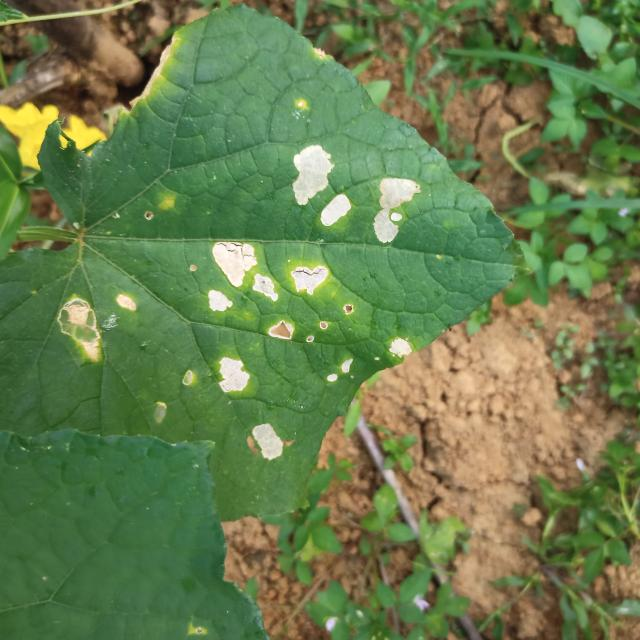disease_cucumber: (207, 239, 331, 343), (55, 290, 138, 364), (290, 141, 355, 229), (369, 174, 424, 246), (249, 420, 287, 462), (215, 354, 250, 395), (321, 353, 359, 385), (387, 334, 413, 360)
